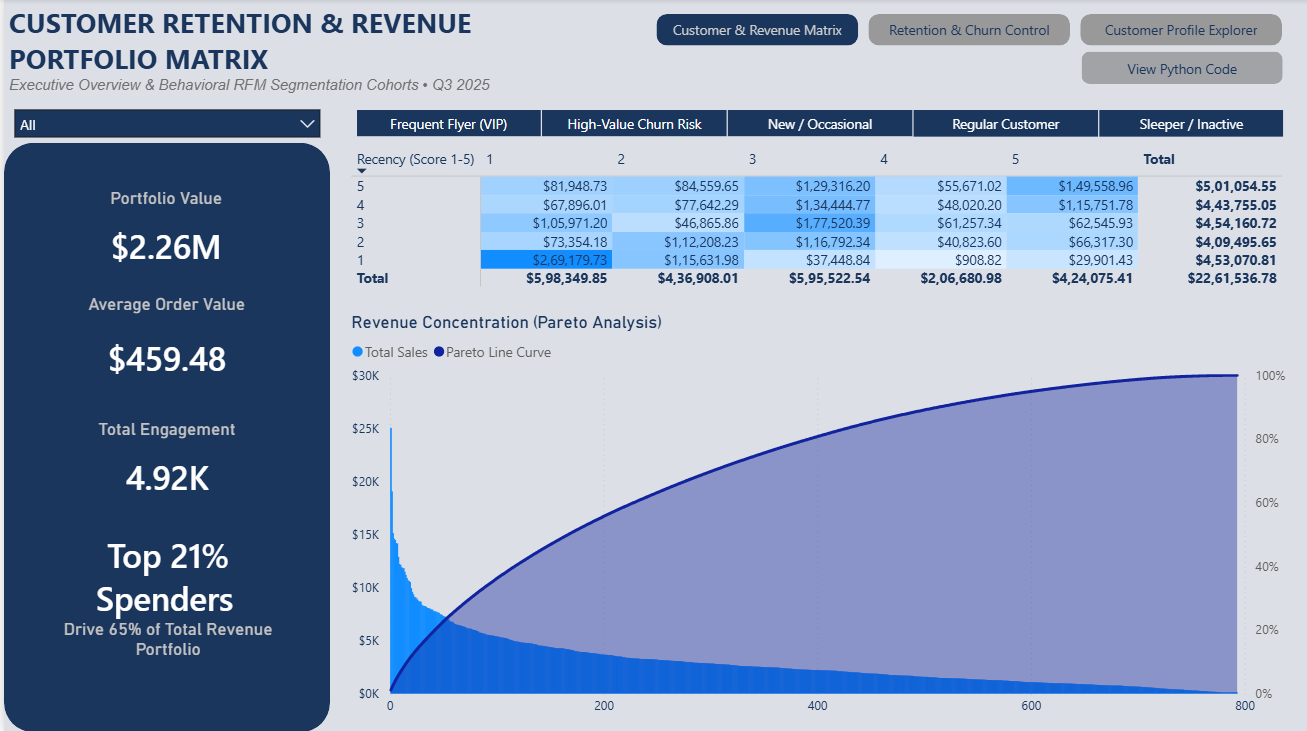

The dashboard page shown, as its layout file describes it:
{"tool":"powerbi","page":{"name":"Customer & Revenue Matrix","canvas":[1280,720],"ordinal":0},"visuals":[{"type":"shape","box":[0,141.2,320,578.8],"z":0},{"type":"cardVisual","title":"Portfolio Value","fields":{"Data":["_Calculated Measures.Total Sales"]},"box":[2.5,185,313.8,92.5],"z":1000},{"type":"cardVisual","title":"Total Engagement","fields":{"Data":["_Calculated Measures.Unique Orders"]},"box":[60,412.5,200,92.5],"z":2000},{"type":"textbox","box":[36.2,518.8,248.8,136.2],"z":3000},{"type":"pivotTable","fields":{"Rows":["Sheet1.R_Score"],"Columns":["Sheet1.F_Score"],"Values":["_Calculated Measures.Total Sales"]},"box":[336.2,142.3,927.6,149.7],"z":4000},{"type":"cardVisual","title":"Average Order Value","fields":{"Data":["_Calculated Measures.AOV"]},"box":[10,290,300,103.8],"z":5000},{"type":"lineStackedColumnComboChart","title":"Revenue Concentration (Pareto Analysis)","fields":{"Category":["Sheet1.Customer_Revenue_Rank"],"Y":["_Calculated Measures.Total Sales"],"Y2":["_Calculated Measures.og Pareto Line"]},"box":[336.2,306.8,927.6,404.9],"z":6000},{"type":"textbox","box":[0,0,494.5,135],"z":7000},{"type":"slicer","title":"Customer Segment","fields":{"Values":["Sheet1.Customer Segment"]},"box":[320.2,101.8,959.5,33.1],"z":8000},{"type":"slicer","title":"Category","fields":{"Values":["Sheet1.Category"]},"box":[0,98.2,320.2,44.2],"z":9000},{"type":"pageNavigator","box":[640.5,14.7,614.7,31.9],"z":10000},{"type":"actionButton","title":"View Python Code","box":[1058,51.5,197.5,31.9],"z":11000}]}

Visuals, with their boxes in screenshot pixels (x1, y1, x2, y2), scaled from the page's 1280x720 canvas onto the 1307x731 screenshot:
shape: select_region(0, 143, 327, 730)
"Portfolio Value" cardVisual: select_region(3, 188, 323, 282)
"Total Engagement" cardVisual: select_region(61, 419, 265, 513)
textbox: select_region(37, 527, 291, 665)
pivotTable - Sheet1.R_Score x Sheet1.F_Score: select_region(343, 144, 1290, 296)
"Average Order Value" cardVisual: select_region(10, 294, 317, 400)
"Revenue Concentration (Pareto Analysis)" lineStackedColumnComboChart: select_region(343, 311, 1290, 723)
textbox: select_region(0, 0, 505, 137)
"Customer Segment" slicer: select_region(327, 103, 1306, 137)
"Category" slicer: select_region(0, 100, 327, 145)
pageNavigator: select_region(654, 15, 1282, 47)
"View Python Code" actionButton: select_region(1080, 52, 1282, 85)
